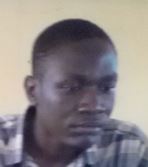without_facemask: (54, 97, 119, 147)
